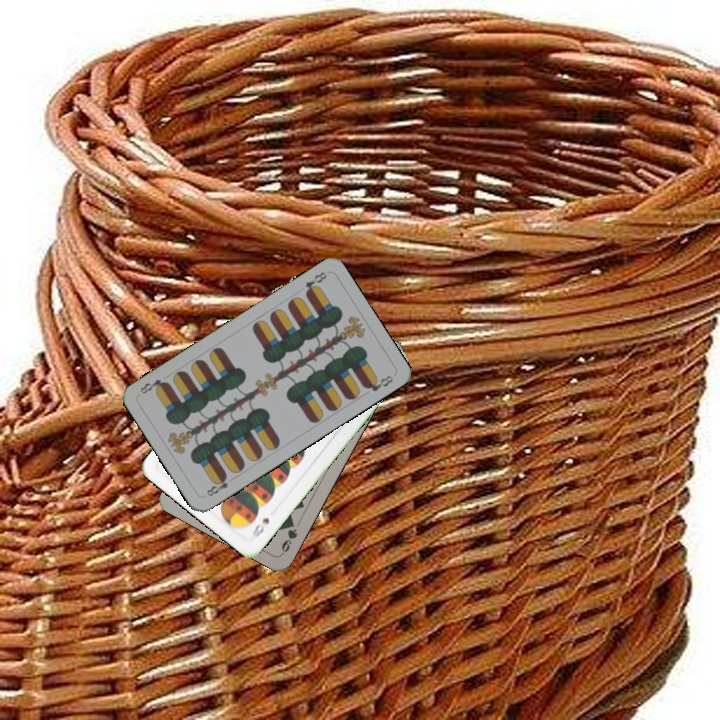E8: (301, 268, 330, 298), (202, 471, 231, 499)
G9: (277, 516, 300, 557)
S8: (249, 514, 272, 540)
